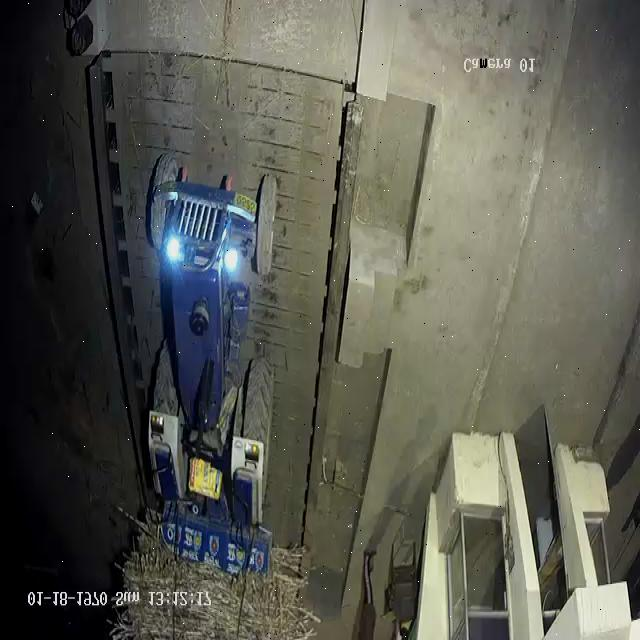Tratores - v5 YOLO V8L 2024-11-13: (147, 156, 286, 507)
